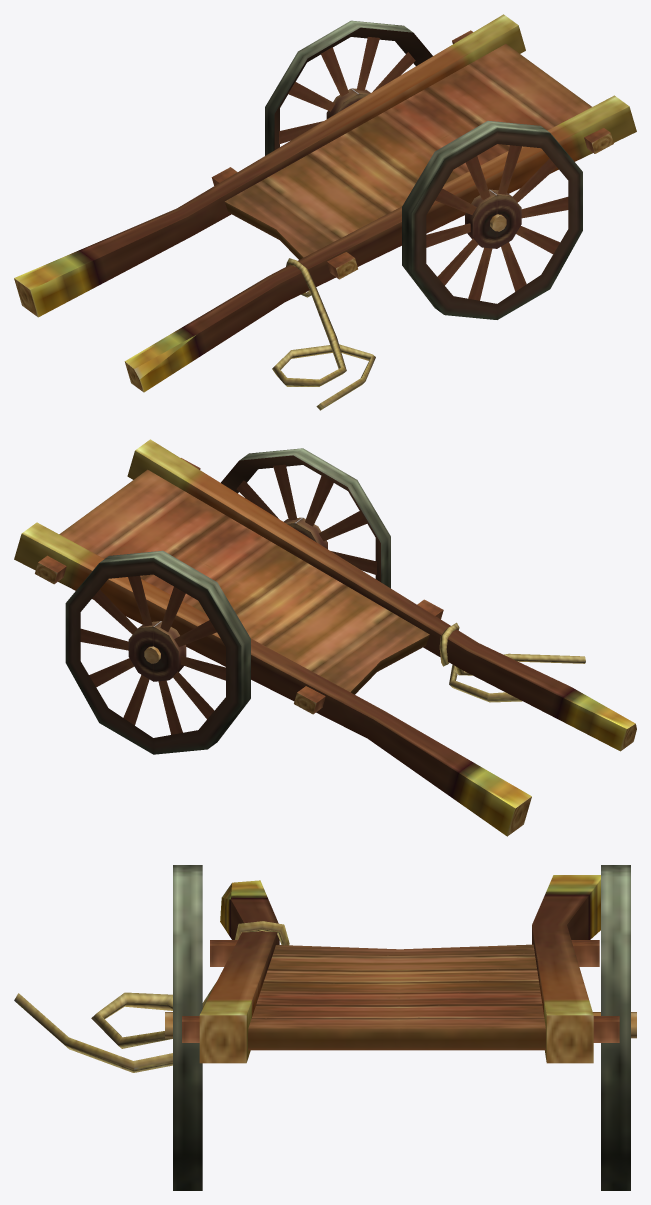
File: shou_tui_che_001.FBX
The picture shows the model from 3 angles, top to bottom: view 1: azimuth 30°, elevation 25°; view 2: azimuth 150°, elevation 25°; view 3: azimuth 270°, elevation 25°; orthographic projection. The views are drawn at different scales.
Visible parts, largest first — view 1: shou_tui_che_001; view 2: shou_tui_che_001; view 3: shou_tui_che_001.
Part boxes in pixels (bbox=[...]): shou_tui_che_001: bbox=[14, 14, 636, 410]; shou_tui_che_001: bbox=[14, 439, 636, 836]; shou_tui_che_001: bbox=[14, 865, 636, 1190].
Size of the model in its own units: 300 by 114 by 210.
